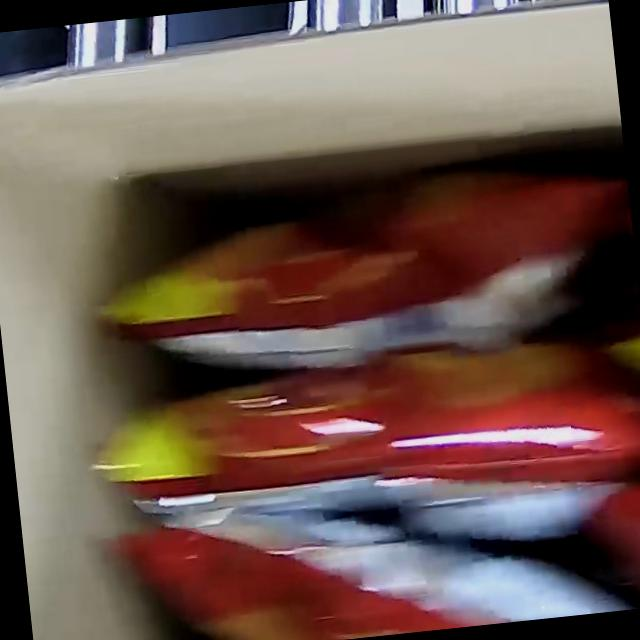masala: (53, 147, 640, 640)
